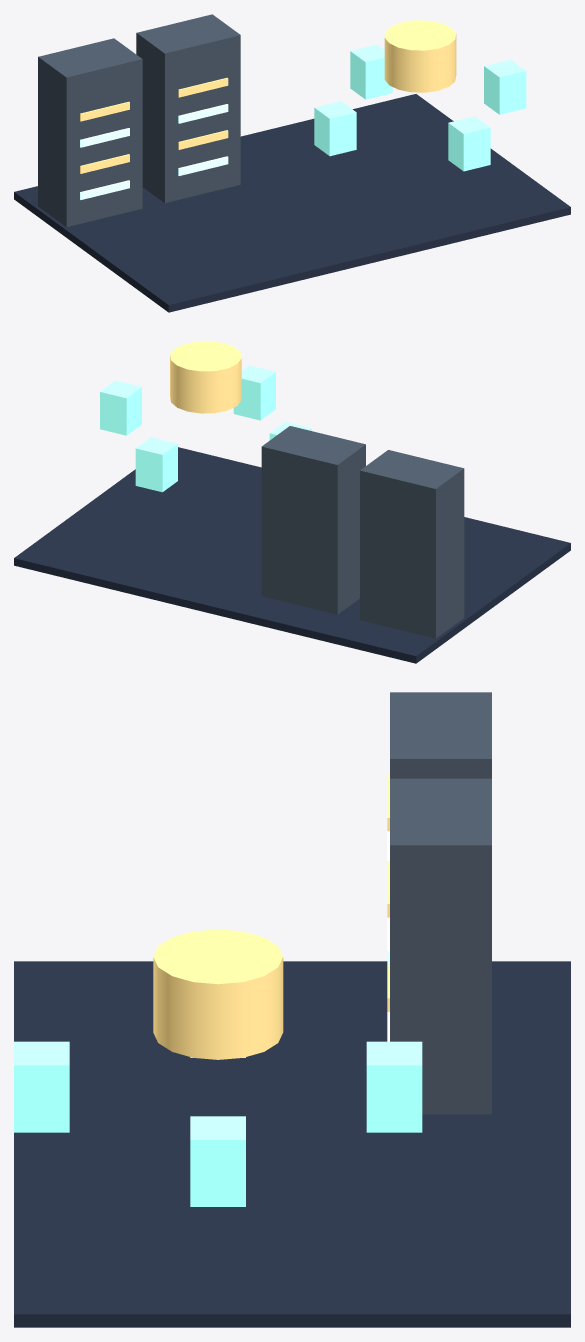
File: sim-superlab.glb
3 views of the same model, one above another, from view 1: azimuth 30°, elevation 25°; view 2: azimuth 150°, elevation 25°; view 3: azimuth 270°, elevation 25° (orthographic). The views are drawn at different scales.
Parts seen in each view (by area): view 1: sl-floor, sl-rack-0, sl-rack-1, sl-cp, sl-worker-1, sl-worker-2, sl-worker-0, sl-worker-3, sl-bay-1-2, sl-bay-1-3, sl-bay-1-1, sl-bay-1-0 (+4 smaller); view 2: sl-floor, sl-rack-0, sl-rack-1, sl-cp, sl-worker-3, sl-worker-0, sl-worker-1; view 3: sl-floor, sl-rack-1, sl-cp, sl-rack-0, sl-worker-3, sl-worker-1, sl-worker-0.
Part boxes in pixels (<box>): sl-floor: <box>14,94,570,312</box>; sl-rack-0: <box>38,38,142,227</box>; sl-rack-1: <box>136,14,240,202</box>; sl-cp: <box>384,20,456,92</box>; sl-worker-1: <box>448,116,490,171</box>; sl-worker-2: <box>314,101,356,156</box>; sl-worker-0: <box>484,59,526,114</box>; sl-worker-3: <box>350,44,392,99</box>; sl-bay-1-2: <box>178,104,228,123</box>; sl-bay-1-3: <box>178,77,228,97</box>; sl-bay-1-1: <box>178,130,228,149</box>; sl-bay-1-0: <box>178,156,228,175</box>; sl-floor: <box>14,447,570,663</box>; sl-rack-0: <box>360,450,464,638</box>; sl-rack-1: <box>261,426,365,614</box>; sl-cp: <box>170,341,241,413</box>; sl-worker-3: <box>135,437,177,492</box>; sl-worker-0: <box>100,380,141,435</box>; sl-worker-1: <box>233,365,275,420</box>; sl-floor: <box>14,961,570,1327</box>; sl-rack-1: <box>390,778,491,1114</box>; sl-cp: <box>153,929,283,1059</box>; sl-rack-0: <box>390,692,491,778</box>; sl-worker-3: <box>366,1041,422,1132</box>; sl-worker-1: <box>14,1041,69,1132</box>; sl-worker-0: <box>190,1116,245,1206</box>.
Bounding box in the file's own units: 4.55 × 1.72 × 3.
